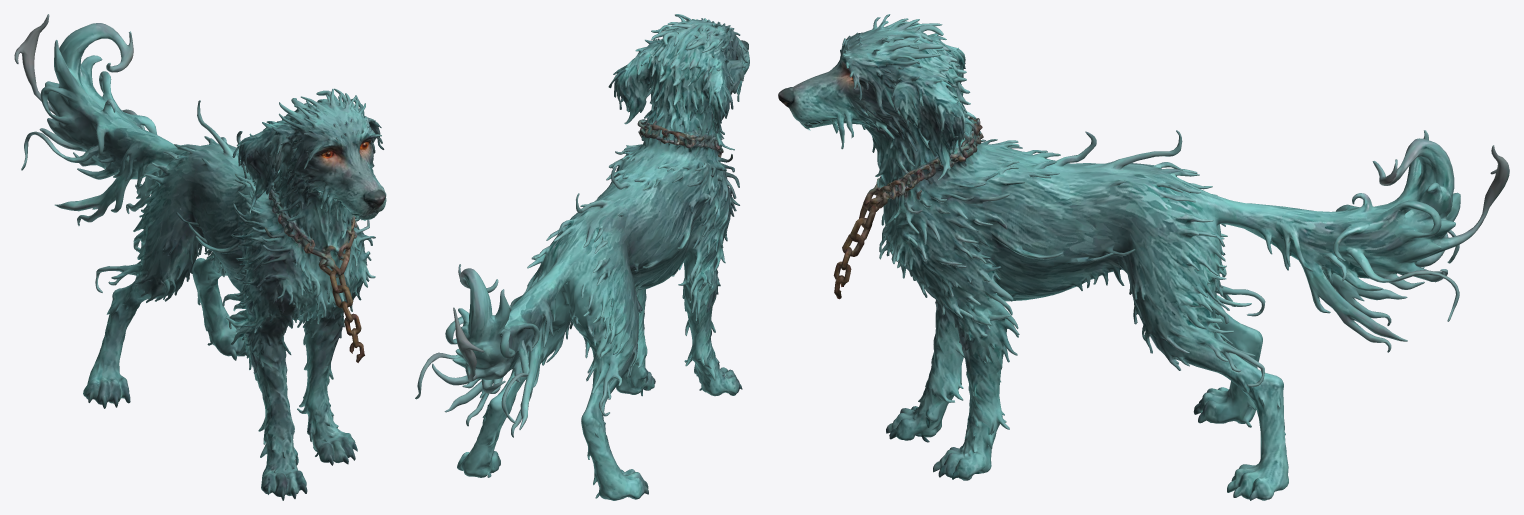
Rendered from figurine-barghest.glb.
3 views of the same model, side by side, from view 1: azimuth 30°, elevation 25°; view 2: azimuth 150°, elevation 25°; view 3: azimuth 270°, elevation 25° (orthographic). The views are drawn at different scales.
Visible parts, largest first — view 1: tripo_node_89bc1c43-fc34-4596-9e1a-86b7bb6022ca; view 2: tripo_node_89bc1c43-fc34-4596-9e1a-86b7bb6022ca; view 3: tripo_node_89bc1c43-fc34-4596-9e1a-86b7bb6022ca.
Part boxes in pixels (<box>): tripo_node_89bc1c43-fc34-4596-9e1a-86b7bb6022ca: <box>14,14,386,500</box>; tripo_node_89bc1c43-fc34-4596-9e1a-86b7bb6022ca: <box>415,14,749,500</box>; tripo_node_89bc1c43-fc34-4596-9e1a-86b7bb6022ca: <box>778,14,1509,500</box>.
Bounding box in the file's own units: 0.3173 × 0.6342 × 0.9799.
1 material, 1 textured.
